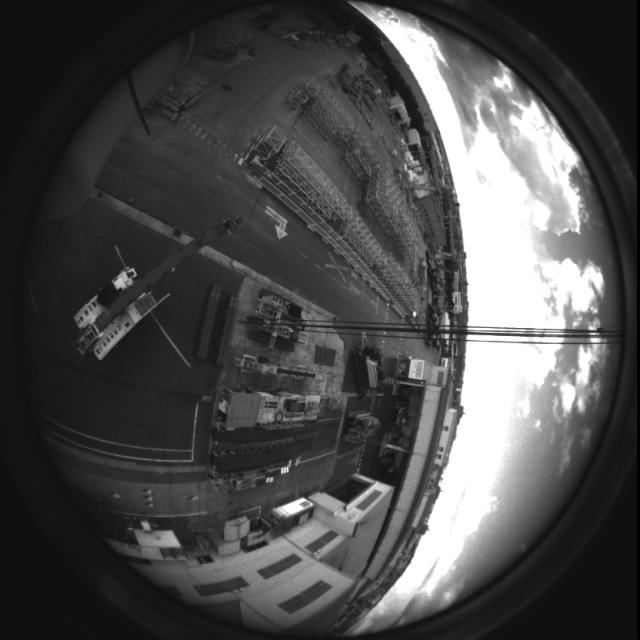rope: (222, 309, 632, 351)
sky: (322, 2, 620, 637)
